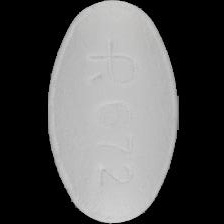54868-4477: (0, 0, 224, 224)
